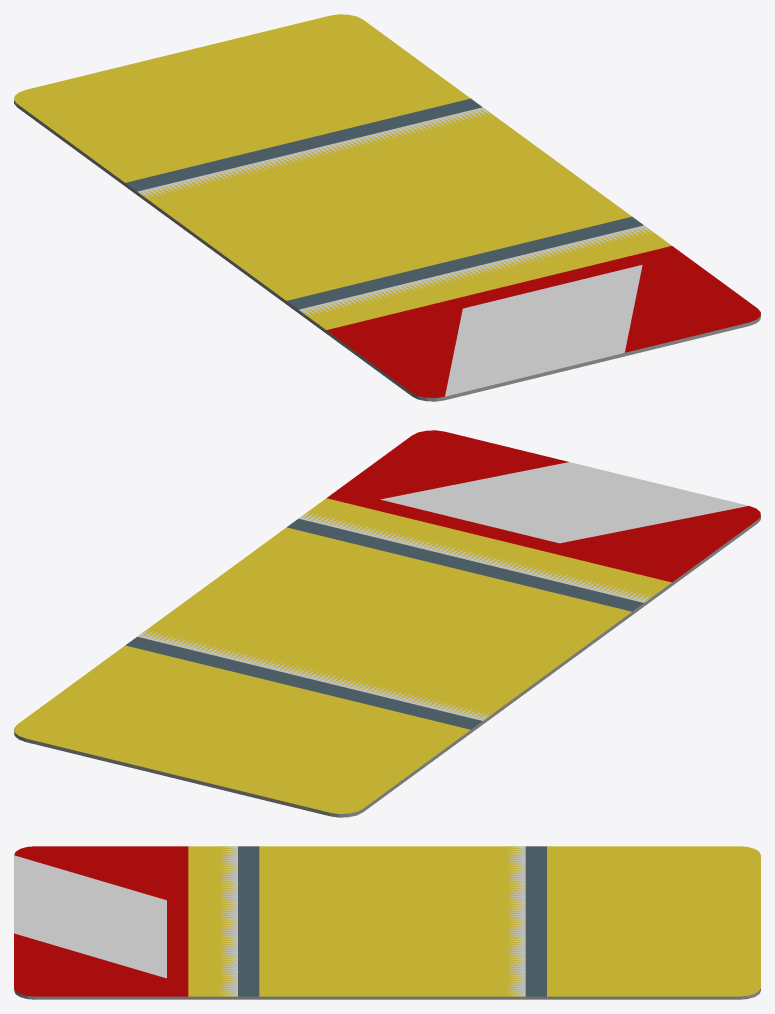
The picture shows the model from 3 angles, top to bottom: view 1: azimuth 30°, elevation 25°; view 2: azimuth 150°, elevation 25°; view 3: azimuth 270°, elevation 25°; orthographic projection. The views are drawn at different scales.
Parts seen in each view (by area): view 1: world; view 2: world; view 3: world.
Part boxes in pixels (bbox=[...]): world: bbox=[14, 14, 760, 401]; world: bbox=[14, 430, 760, 817]; world: bbox=[14, 846, 760, 999].
Bounding box in the file's own units: 0.01 × 0.0001 × 0.021.
